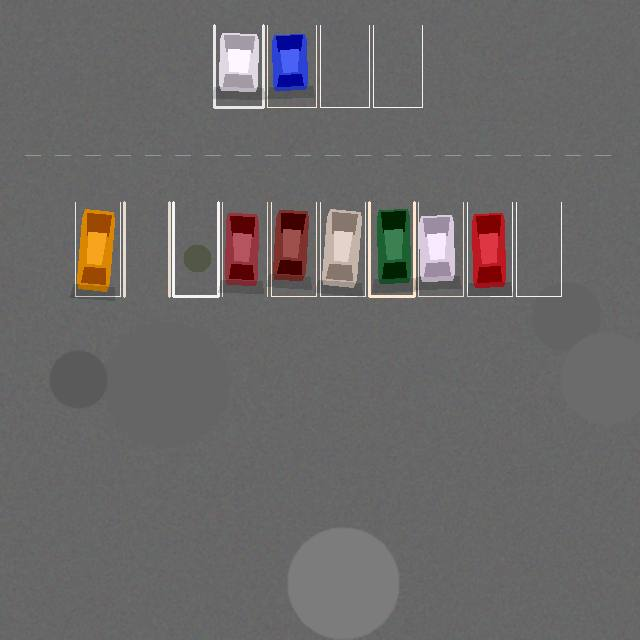space-empty: (124, 202, 169, 296), (173, 202, 218, 296), (516, 202, 561, 296), (320, 25, 369, 107), (373, 25, 422, 107)
space-occupied: (75, 202, 120, 296), (222, 202, 267, 296), (271, 202, 316, 296), (320, 202, 365, 296), (369, 202, 414, 296), (418, 202, 463, 296), (467, 202, 512, 296), (214, 25, 263, 107), (267, 25, 316, 107)
